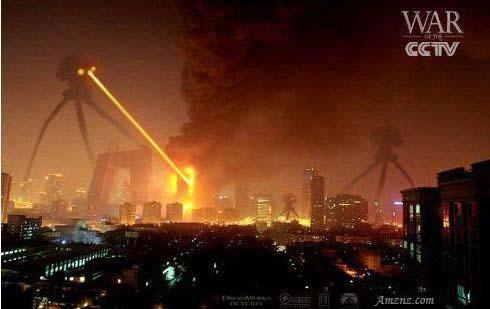fire: (76, 63, 206, 218), (165, 161, 206, 219), (228, 207, 312, 230)
